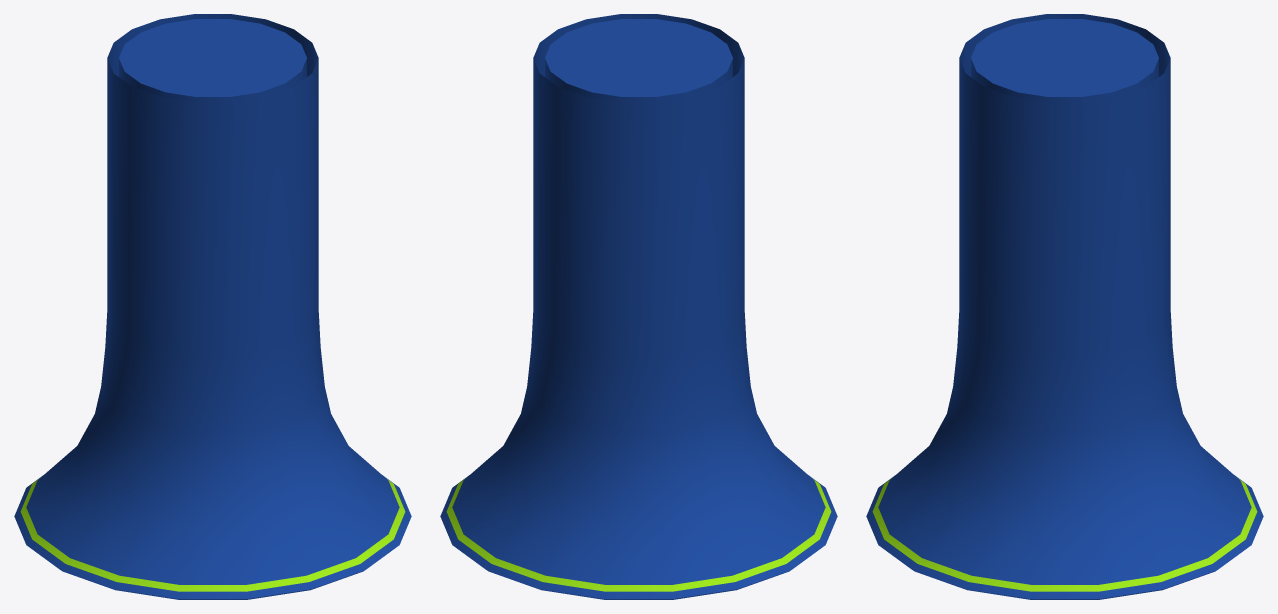
File: Pear Tube.FBX
The picture shows the model from 3 angles, left to right: view 1: azimuth 30°, elevation 25°; view 2: azimuth 150°, elevation 25°; view 3: azimuth 270°, elevation 25°; orthographic projection.
Parts seen in each view (by area): view 1: Pear Tube; view 2: Pear Tube; view 3: Pear Tube.
Part boxes in pixels (<box>): Pear Tube: <box>14,14,411,599</box>; Pear Tube: <box>440,14,837,599</box>; Pear Tube: <box>866,14,1263,599</box>.
Bounding box in the file's own units: 79.98 × 104 × 81.21.
